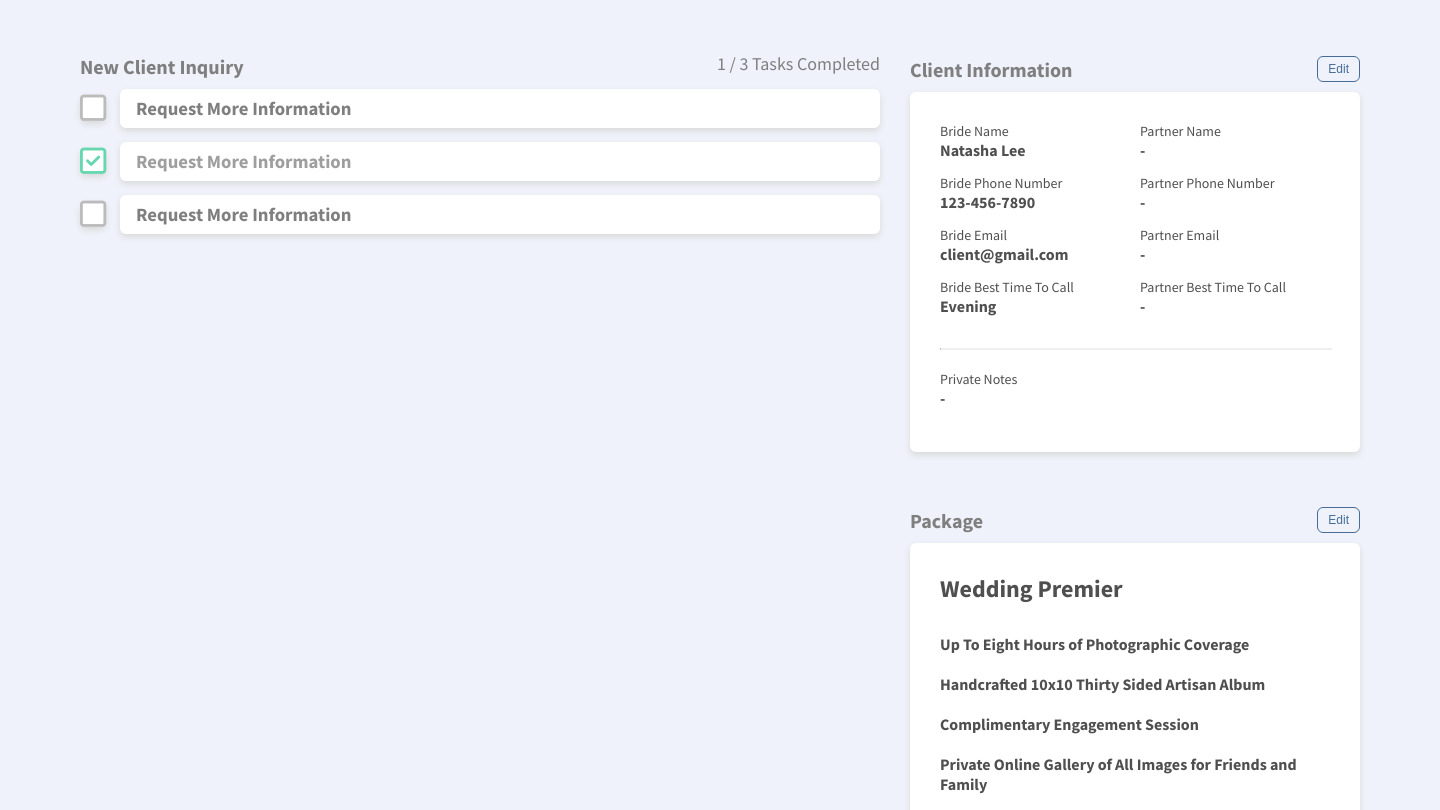
Test: Client Info Flow › renders error banner in modal after failed client information update
The image size is (1440, 810).
Expected: the heading "Natasha Lee" is shown, [940,140,1026,160]
Click the button with test id "edit-client-btn" at coordinates (1339, 69), box [1317,56,1360,82]
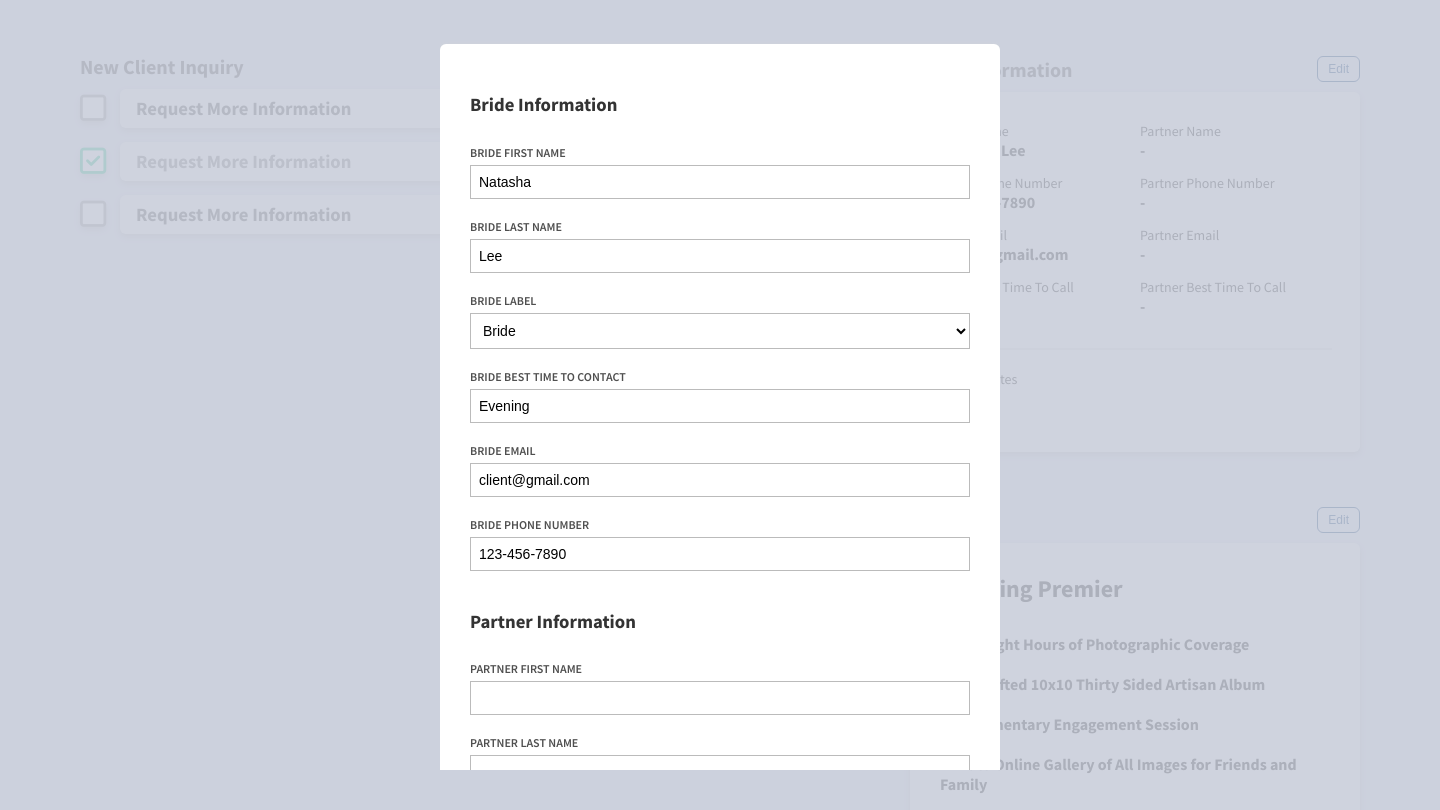
Replace the text in the field labelled "Bride Email" with "natasha@gmail.com" at coordinates (720, 479), box [470,462,970,496]
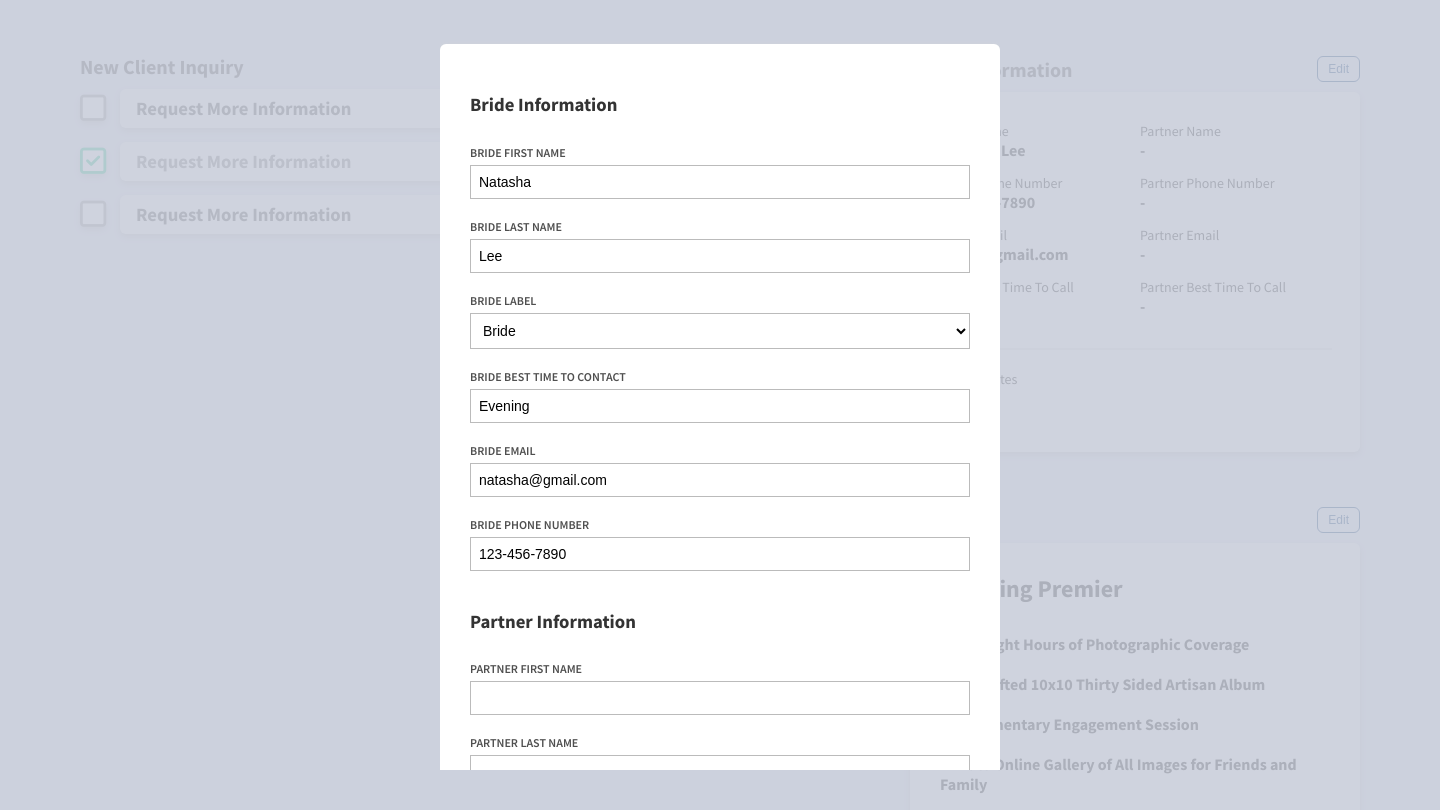
Type "Zihao" into the field labelled "Partner First Name" at coordinates (720, 698), box [470,681,970,715]
(page scrolled)
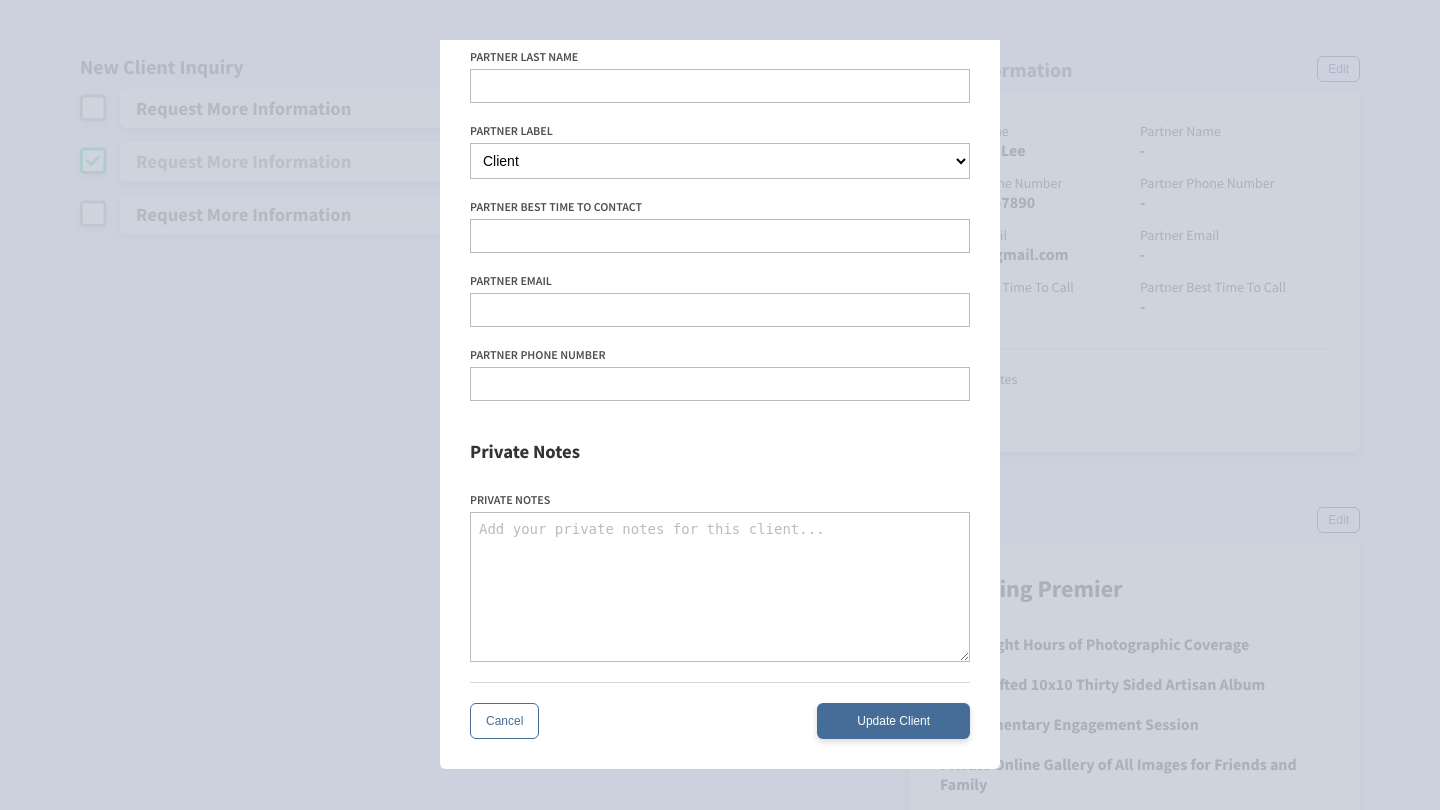
Click the button "Update Client" at coordinates (894, 721), box [817,703,970,739]
(page scrolled)
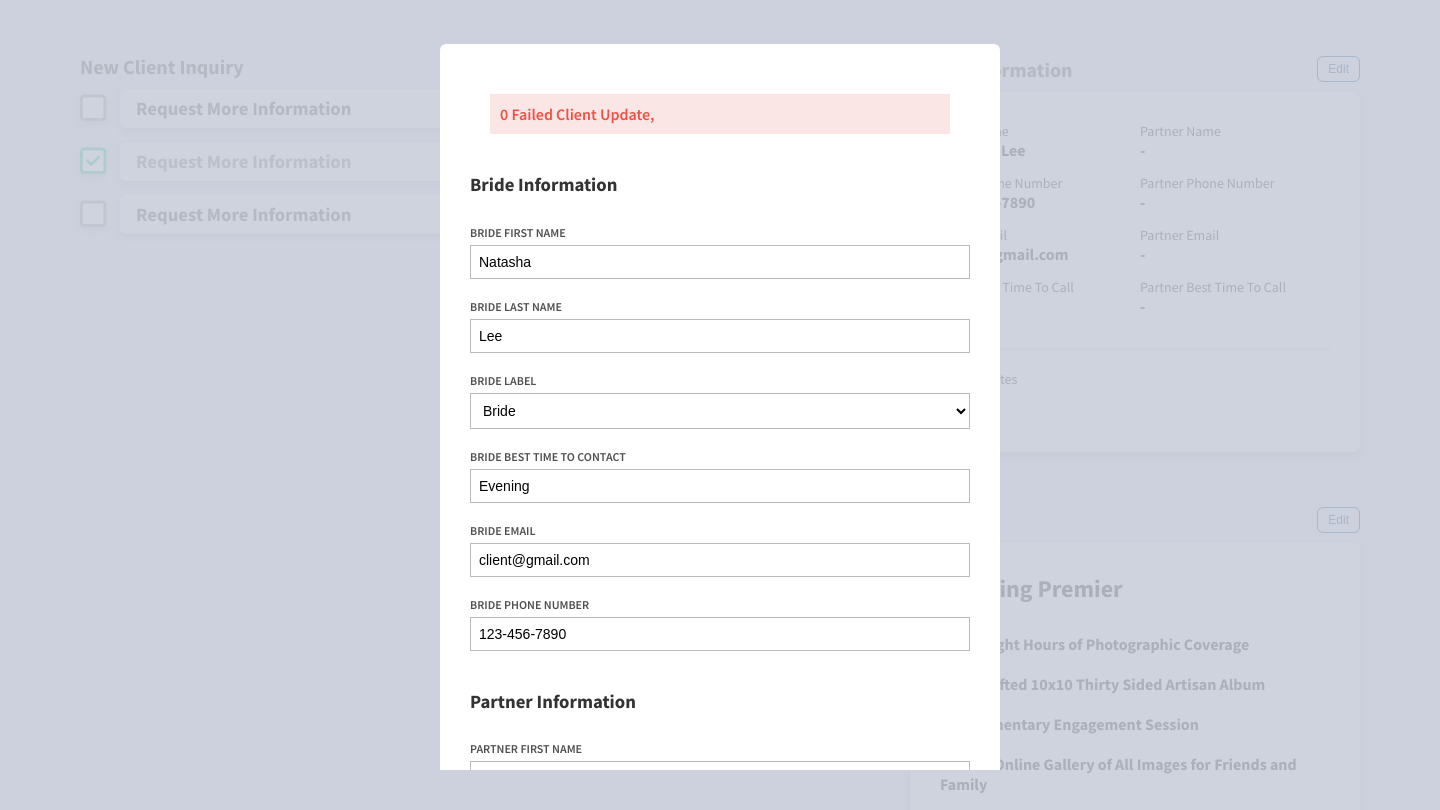
Expected: the text "0 Failed Client Update," is shown, [490,94,950,134]
